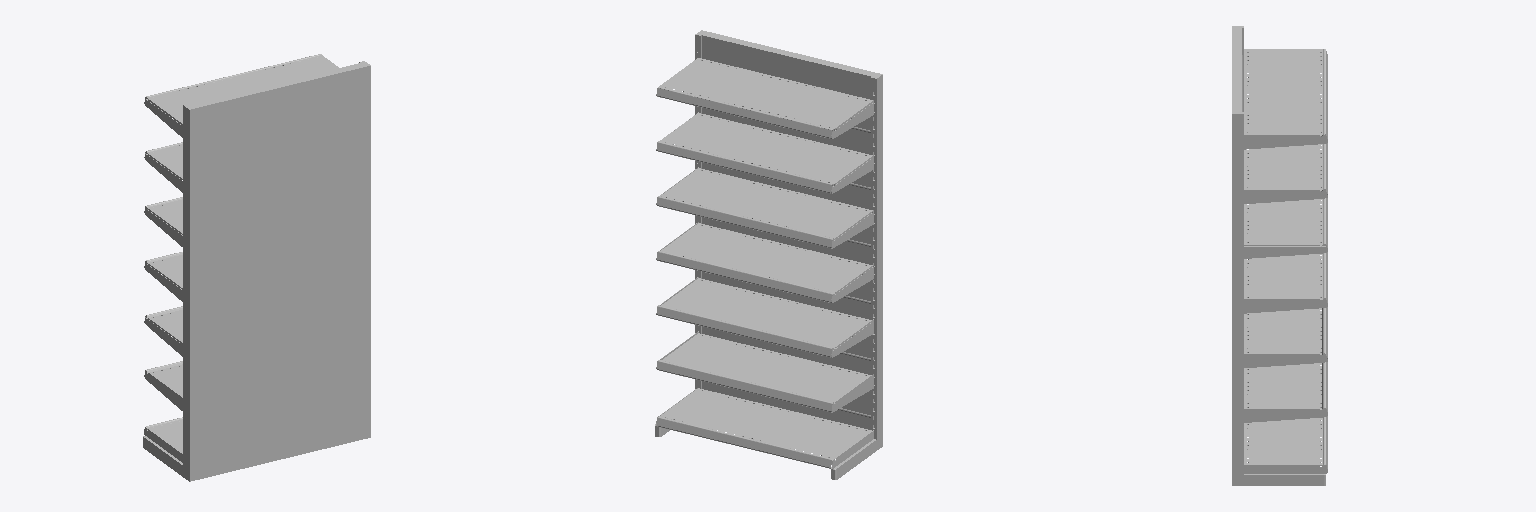
File: empty_shelf.obj
3 renders of one model, left to right at view 1: azimuth 30°, elevation 25°; view 2: azimuth 150°, elevation 25°; view 3: azimuth 270°, elevation 25°, orthographic.
Visible parts, largest first — view 1: aisle_shelf.003; view 2: aisle_shelf.003; view 3: aisle_shelf.003.
Boxes of the visible parts, x1,y1,x2,y2 form: aisle_shelf.003: [143, 54, 370, 481]; aisle_shelf.003: [655, 30, 882, 479]; aisle_shelf.003: [1232, 26, 1327, 485].
Size of the model in its own units: 1 by 1.96 by 0.4626.